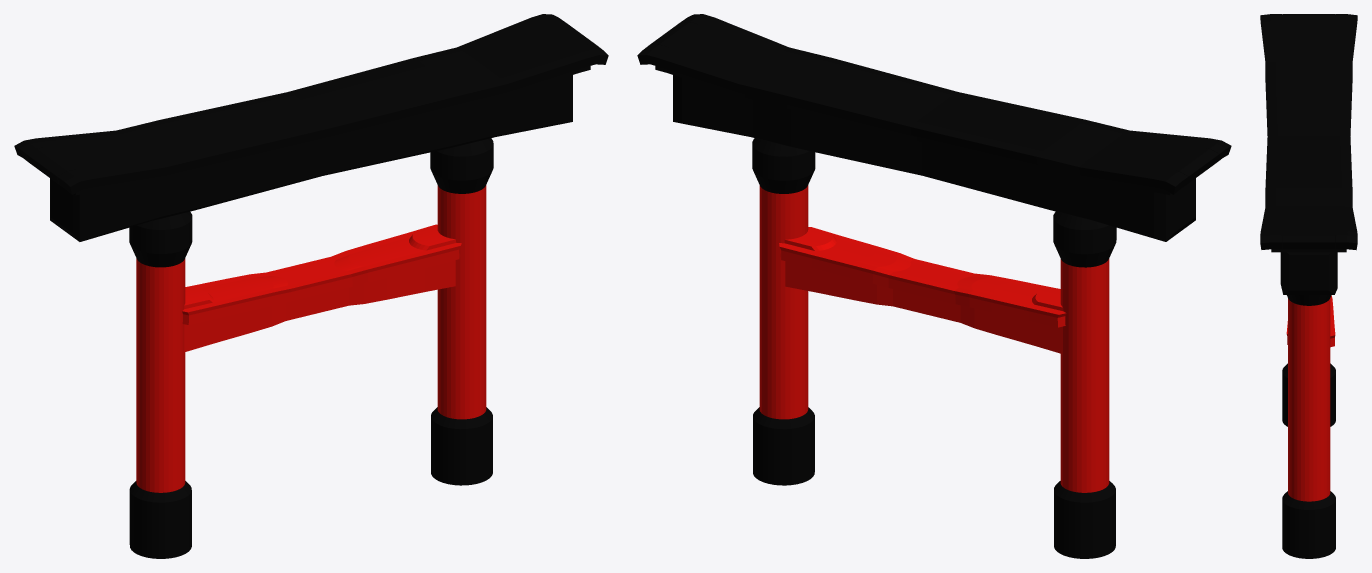
The model's file is torii.fbx.
3 views of the same model, side by side, from view 1: azimuth 30°, elevation 25°; view 2: azimuth 150°, elevation 25°; view 3: azimuth 270°, elevation 25° (orthographic). The views are drawn at different scales.
Parts seen in each view (by area): view 1: Cylinder; view 2: Cylinder; view 3: Cylinder.
Part boxes in pixels (bbox=[...]): Cylinder: bbox=[14, 14, 608, 558]; Cylinder: bbox=[637, 14, 1231, 558]; Cylinder: bbox=[1260, 14, 1357, 558].
Size of the model in its own units: 165 by 121 by 29.8.
